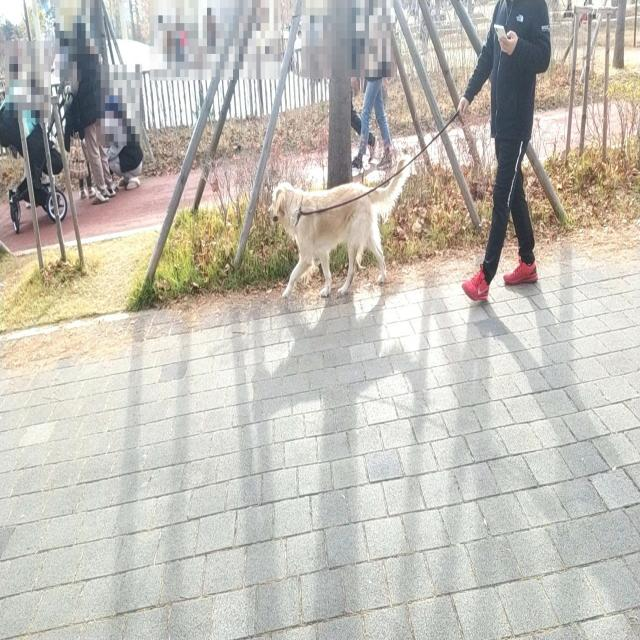Leashed_Dog: (268, 82, 513, 301)
